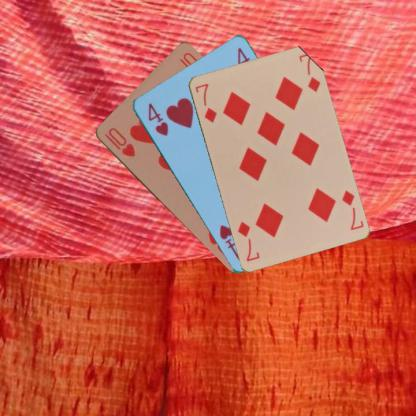10h: (101, 125, 136, 158)
4h: (145, 100, 169, 137)
7d: (192, 80, 218, 124), (338, 187, 364, 231)
